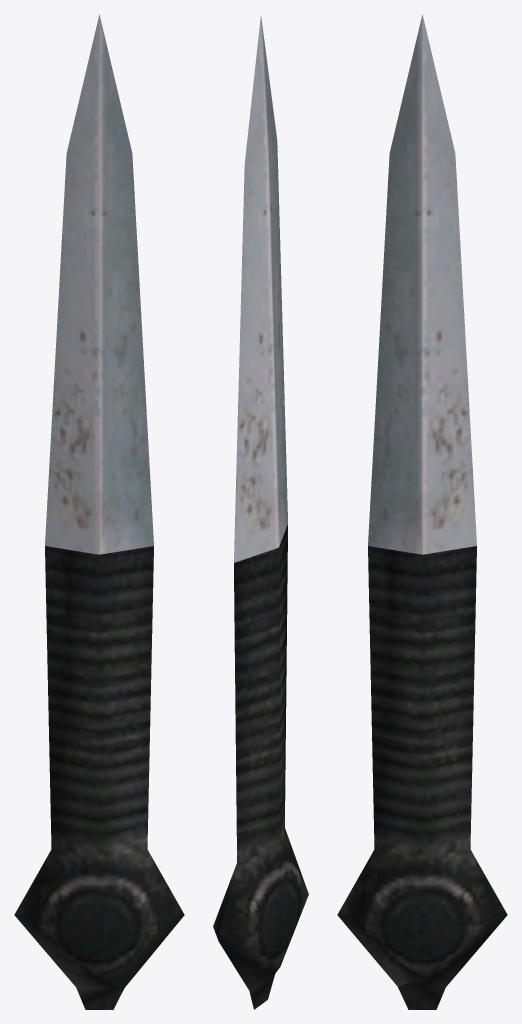
File: wp_mle_knife_dagger_l1.fbx
3 renders of one model, left to right at view 1: azimuth 90°, elevation 25°; view 2: azimuth 150°, elevation 25°; view 3: azimuth 270°, elevation 25°, orthographic.
Visible parts, largest first — view 1: mesh_node; view 2: mesh_node; view 3: mesh_node.
Boxes of the visible parts, <box> form: mesh_node: <box>14,14,184,1009</box>; mesh_node: <box>213,15,308,1009</box>; mesh_node: <box>337,14,507,1009</box>.
Size of the model in its own units: 0.0153 by 0.3708 by 0.0575.
